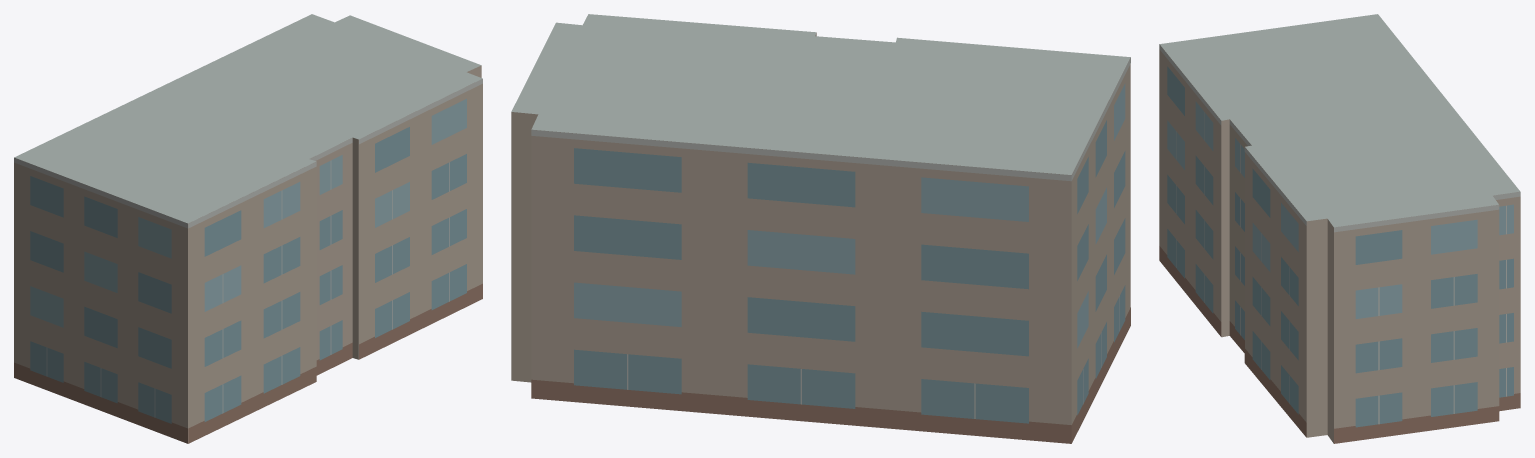
The model's file is survey-upis-32851966.glb.
The picture shows the model from 3 angles, left to right: view 1: azimuth 30°, elevation 25°; view 2: azimuth 150°, elevation 25°; view 3: azimuth 270°, elevation 25°; orthographic projection. The views are drawn at different scales.
Parts seen in each view (by area): view 1: survey-upis-32851966.tmp; view 2: survey-upis-32851966.tmp; view 3: survey-upis-32851966.tmp.
Part boxes in pixels (x1,y1,x2,y2): survey-upis-32851966.tmp: (14, 14, 482, 443); survey-upis-32851966.tmp: (511, 14, 1130, 443); survey-upis-32851966.tmp: (1159, 14, 1520, 443).
Size of the model in its own units: 22.53 by 10.65 by 16.11.
